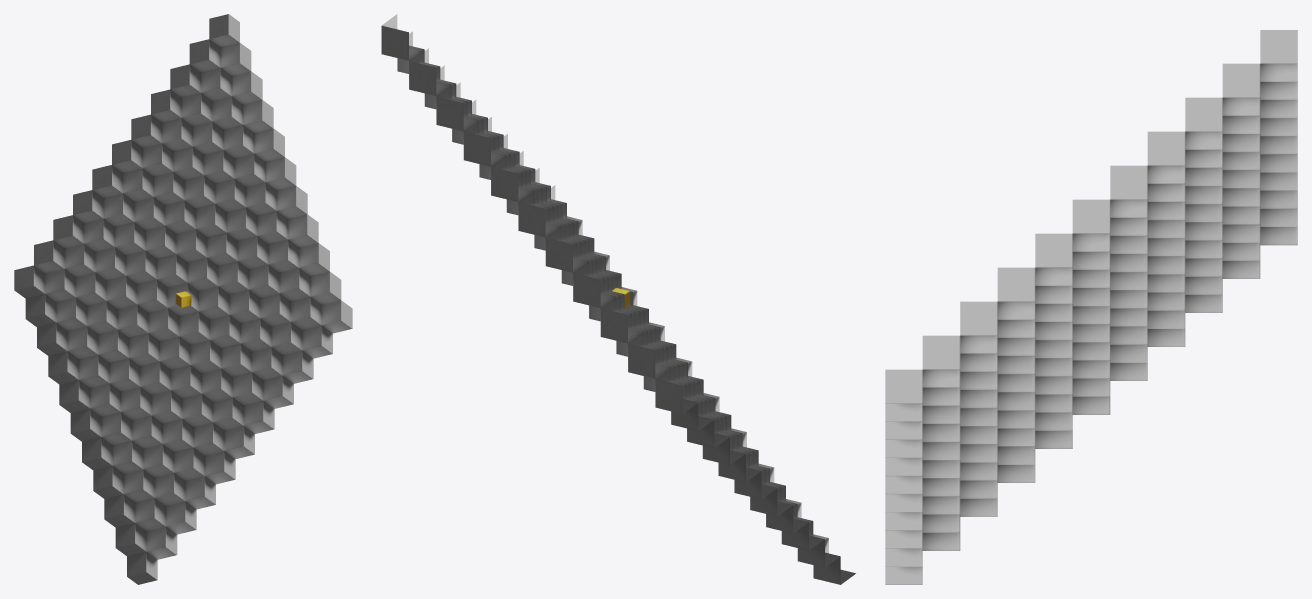
The model's file is background.glb.
3 renders of one model, left to right at view 1: azimuth 30°, elevation 25°; view 2: azimuth 150°, elevation 25°; view 3: azimuth 270°, elevation 25°, orthographic. The views are drawn at different scales.
Parts seen in each view (by area): view 1: CubeGenerator.001_Baked; view 2: CubeGenerator.001_Baked; view 3: CubeGenerator.001_Baked.
Part boxes in pixels (box(x1,y1,x2,y2)): CubeGenerator.001_Baked: box(14, 14, 352, 584); CubeGenerator.001_Baked: box(381, 14, 855, 584); CubeGenerator.001_Baked: box(885, 30, 1297, 584).
Bounding box in the file's own units: 11 × 21 × 11.
1 material, 1 textured.
